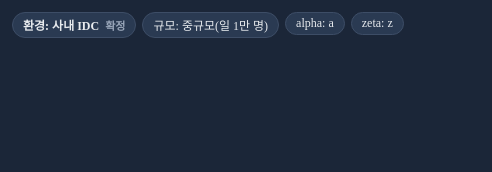
Test: order: labelled keys first, others alphabetical; unknown key has only confirm
What coordinates should you click on to do the following:
click the button "alpha: a"
I would click on:
 (315, 24)
Its box is [285,12,345,35].
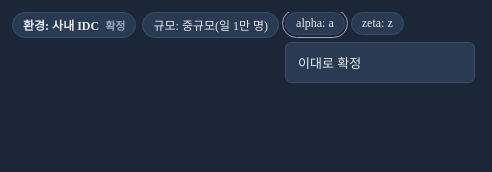
Expected: the number of buttons is 5, [12,12,136,38]; [142,12,279,38]; [285,12,345,35]; [290,47,470,78]; [351,12,404,35]
Expected: the button "이대로 확정" is shown, [290,47,470,78]
